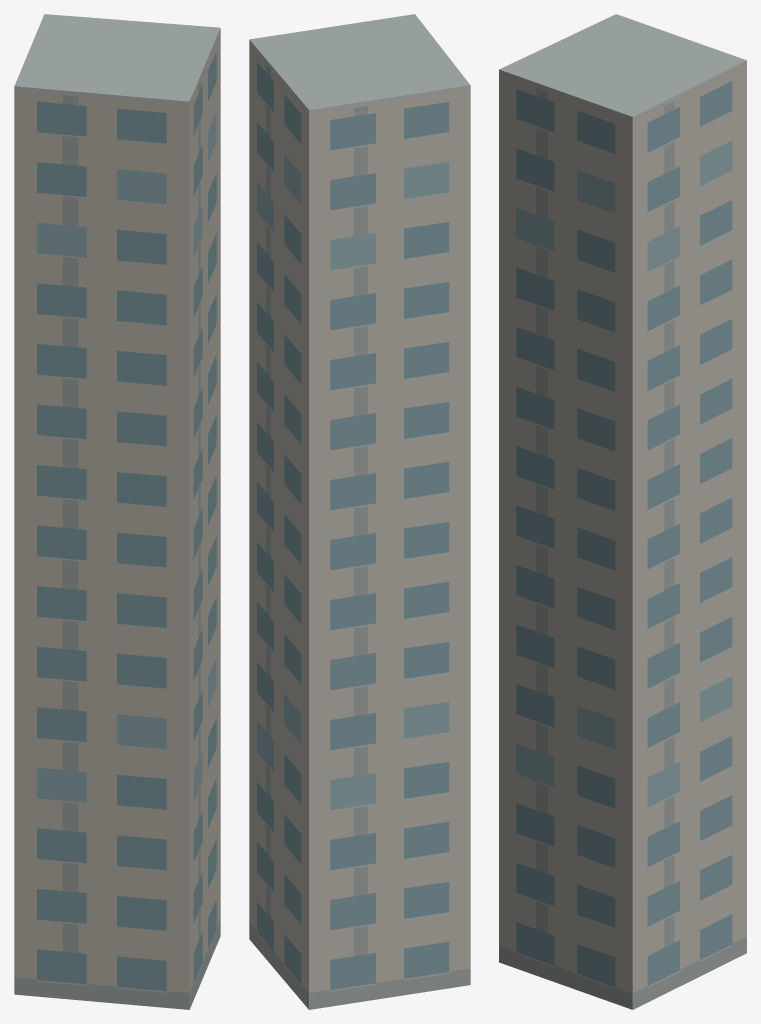
The model's file is survey-upis-32857216.glb.
3 views of the same model, side by side, from view 1: azimuth 30°, elevation 25°; view 2: azimuth 150°, elevation 25°; view 3: azimuth 270°, elevation 25° (orthographic).
Visible parts, largest first — view 1: survey-upis-32857216.tmp; view 2: survey-upis-32857216.tmp; view 3: survey-upis-32857216.tmp.
Boxes of the visible parts, bbox=[...] form: survey-upis-32857216.tmp: bbox=[14, 14, 220, 1009]; survey-upis-32857216.tmp: bbox=[249, 14, 470, 1009]; survey-upis-32857216.tmp: bbox=[499, 14, 746, 1009].
Bounding box in the file's own units: 11.33 × 45.75 × 11.51.
